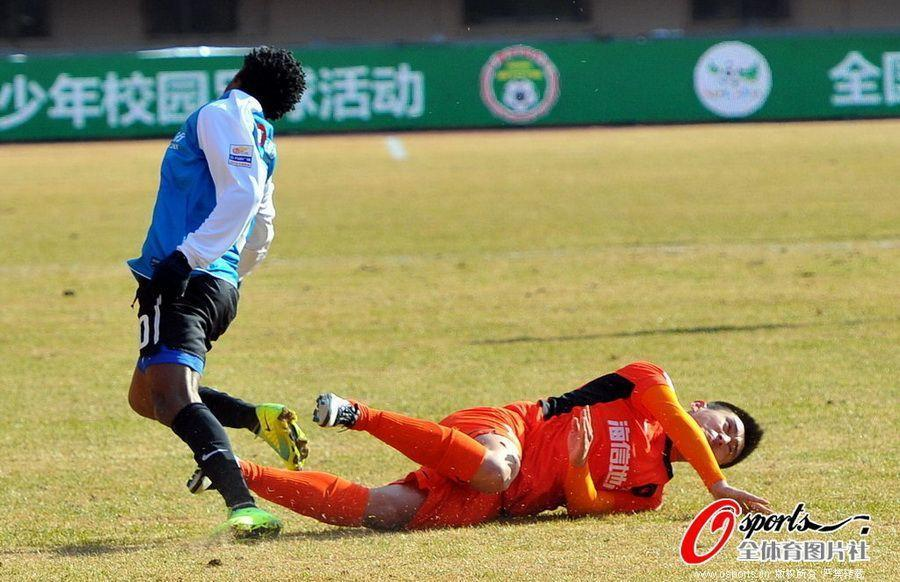Fall-Detected: (208, 344, 786, 541)
